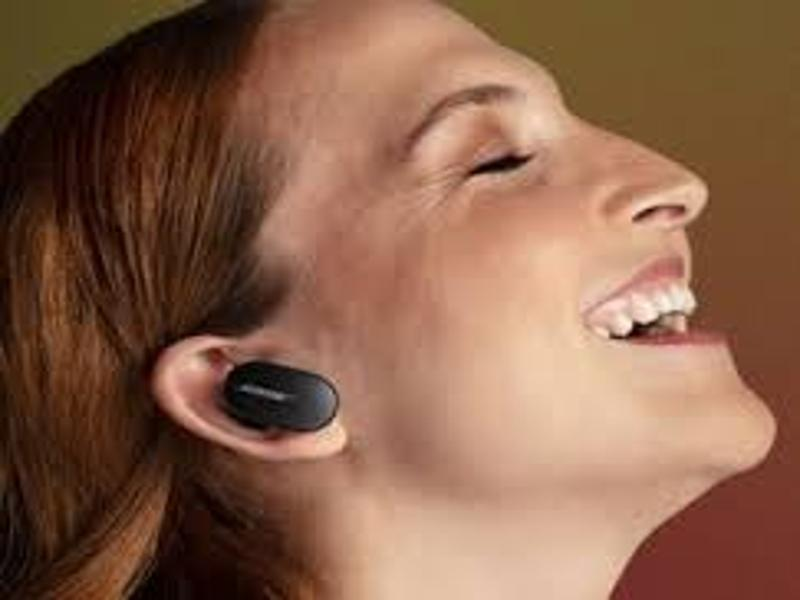headphone: (223, 358, 343, 439)
